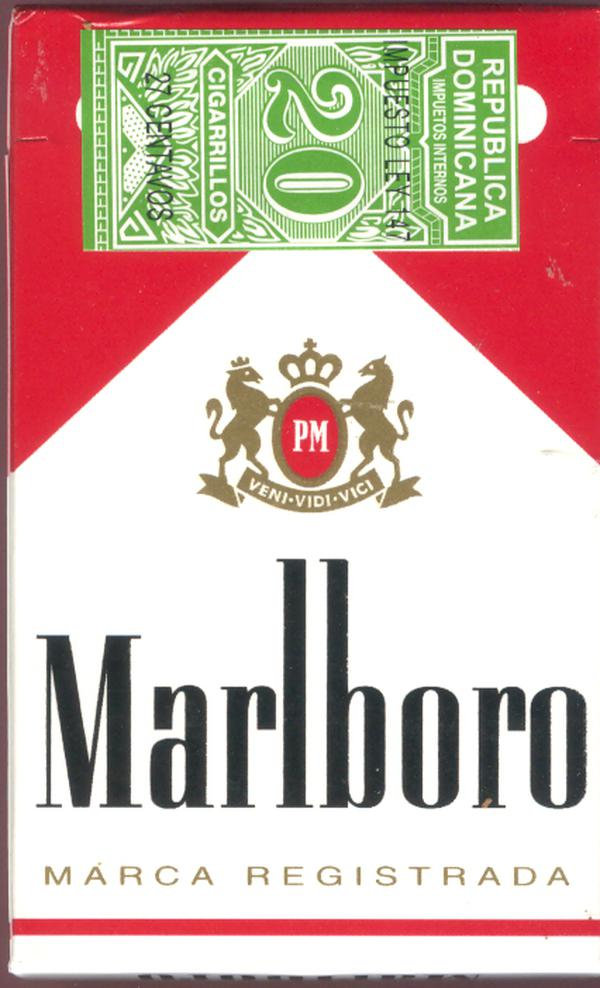marlboro_red: (15, 14, 600, 982)
